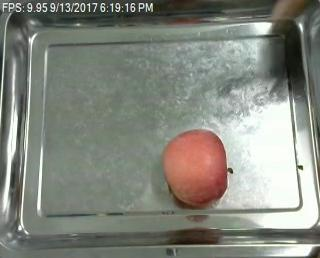apple: (162, 128, 234, 207)
